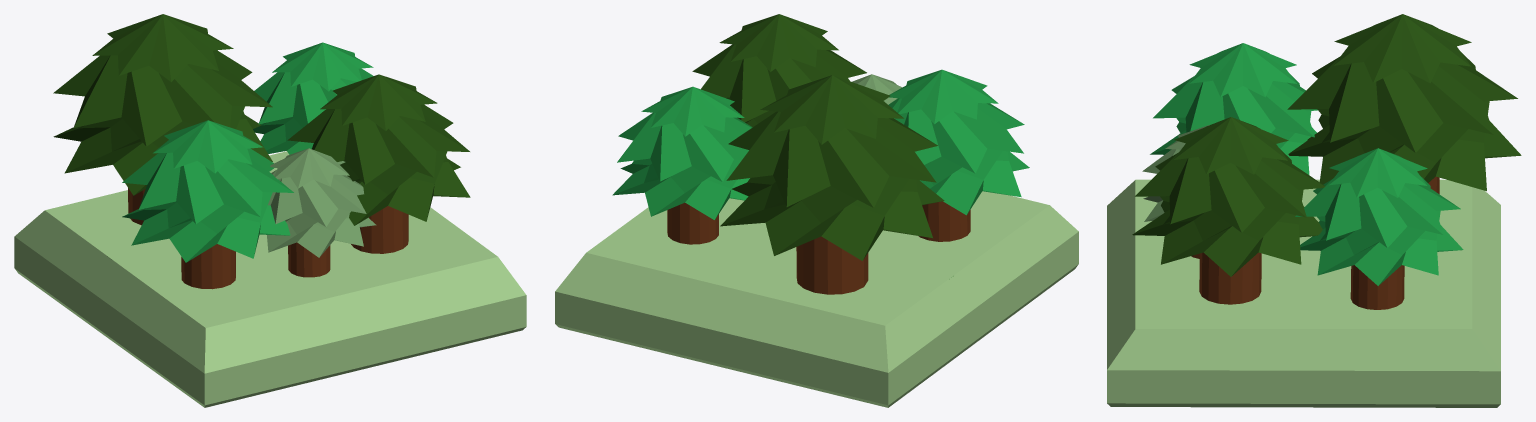
The model's file is trees_sqr.glb.
3 views of the same model, side by side, from view 1: azimuth 30°, elevation 25°; view 2: azimuth 150°, elevation 25°; view 3: azimuth 270°, elevation 25° (orthographic). The views are drawn at different scales.
Visible parts, largest first — view 1: Cylinder; view 2: Cylinder; view 3: Cylinder.
Boxes of the visible parts, x1,y1,x2,y2 form: Cylinder: (14, 14, 526, 407); Cylinder: (555, 14, 1078, 407); Cylinder: (1107, 14, 1521, 407).
Size of the model in its own units: 1.02 by 0.7861 by 1.05.
1 material, 1 textured.
